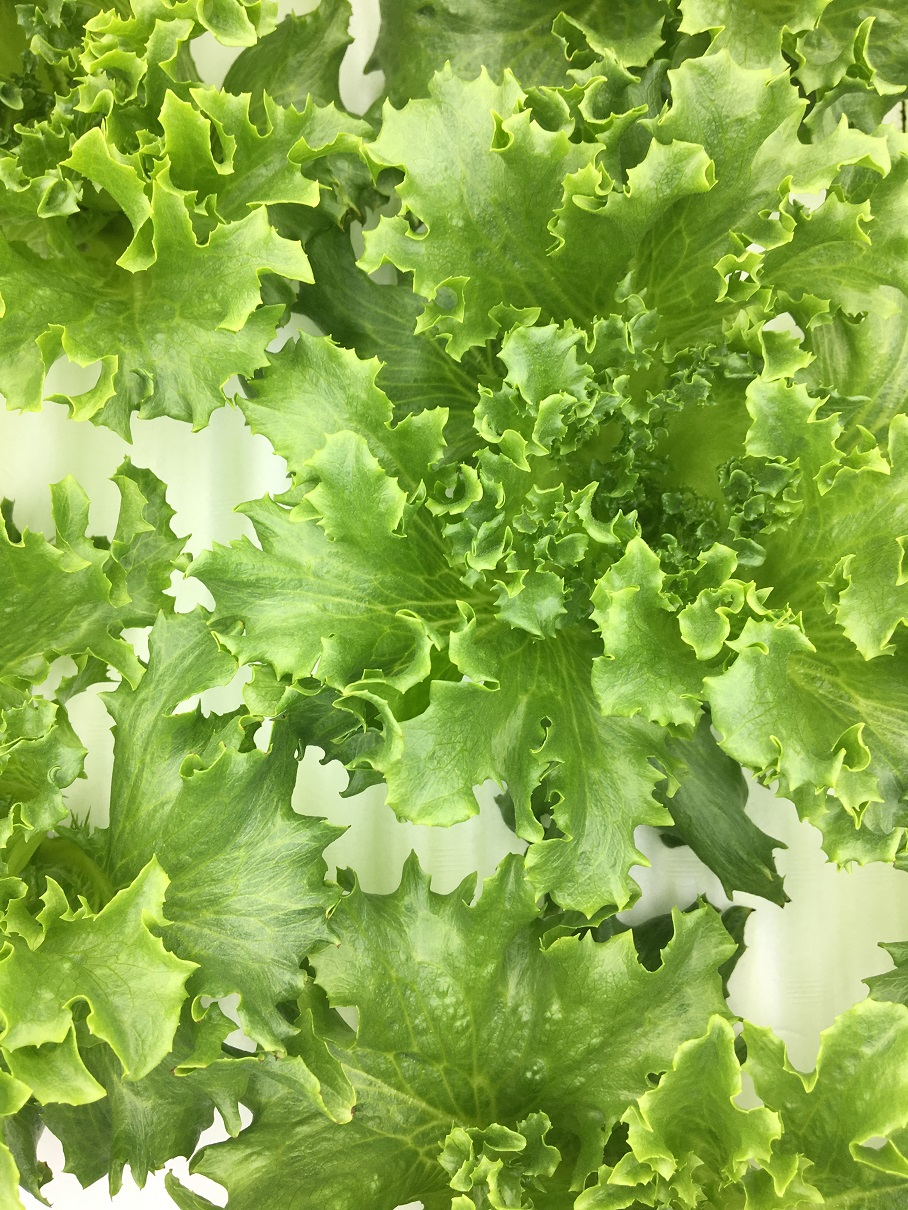tipburn: (319, 927, 355, 963), (260, 1039, 294, 1077), (179, 1008, 212, 1032), (159, 1054, 186, 1082), (264, 706, 291, 731), (342, 814, 365, 837), (743, 901, 764, 925), (320, 903, 343, 924), (786, 891, 803, 909), (41, 1156, 57, 1172), (775, 902, 788, 921)
